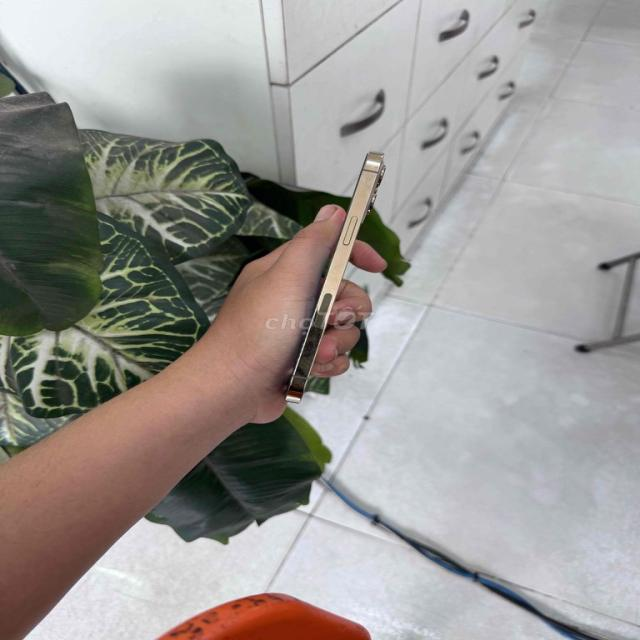gen_15: (282, 150, 394, 408)
